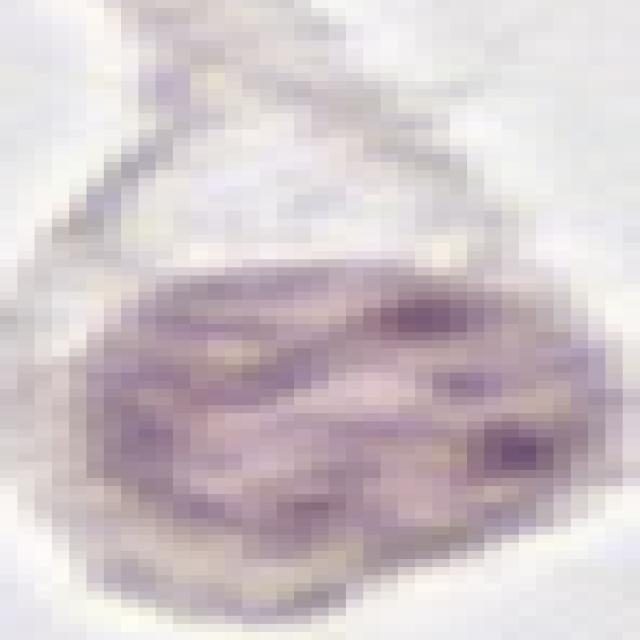cytoplasm: (0, 9, 623, 623)
nucleus: (51, 252, 606, 555)
